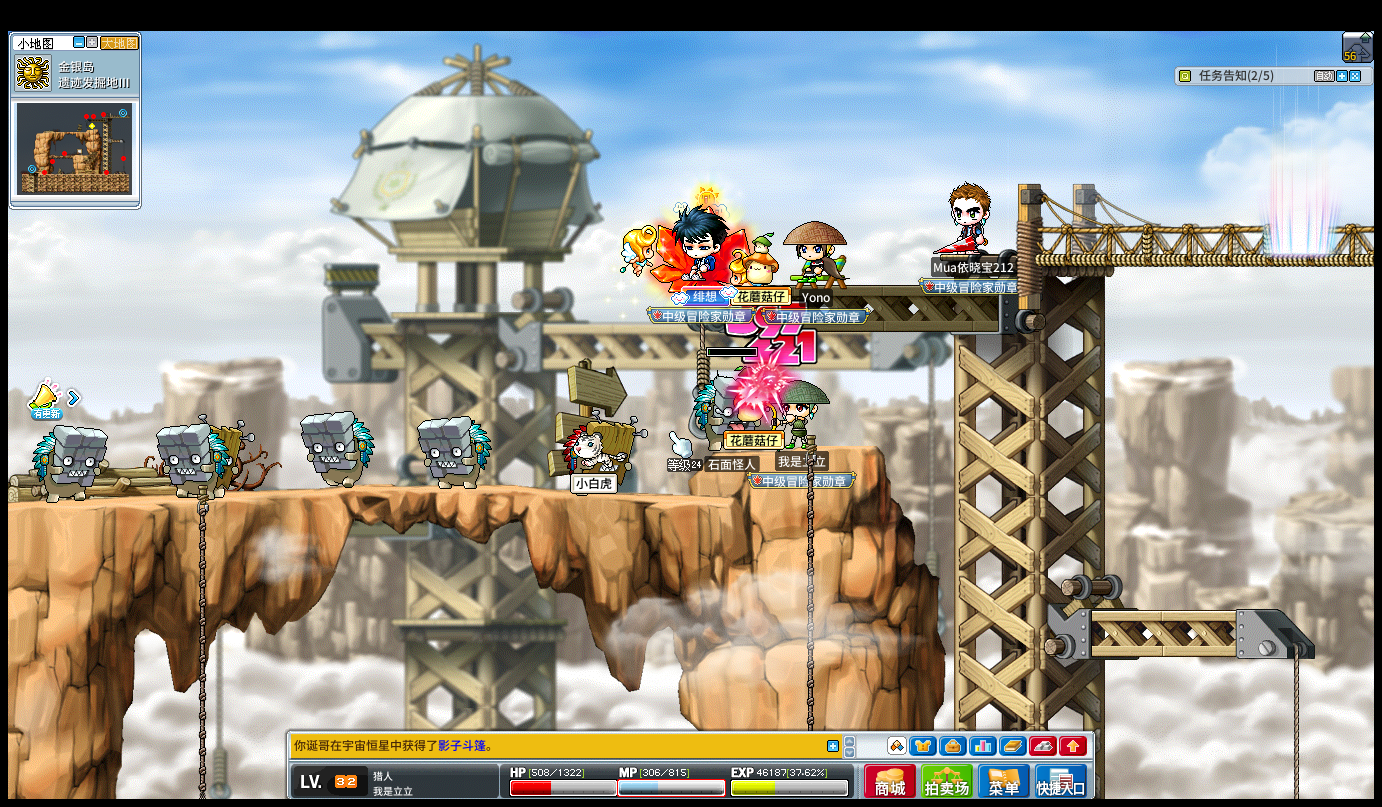floor: (4, 480, 791, 507), (41, 482, 775, 499), (1092, 606, 1290, 620)
monster: (561, 409, 642, 494), (299, 410, 375, 489), (32, 425, 107, 503), (418, 415, 492, 491), (156, 422, 227, 499), (691, 373, 736, 464)
rope: (193, 480, 207, 798), (801, 461, 817, 724), (1288, 654, 1303, 792)
